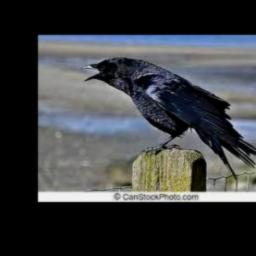Crow: (80, 56, 256, 180)
